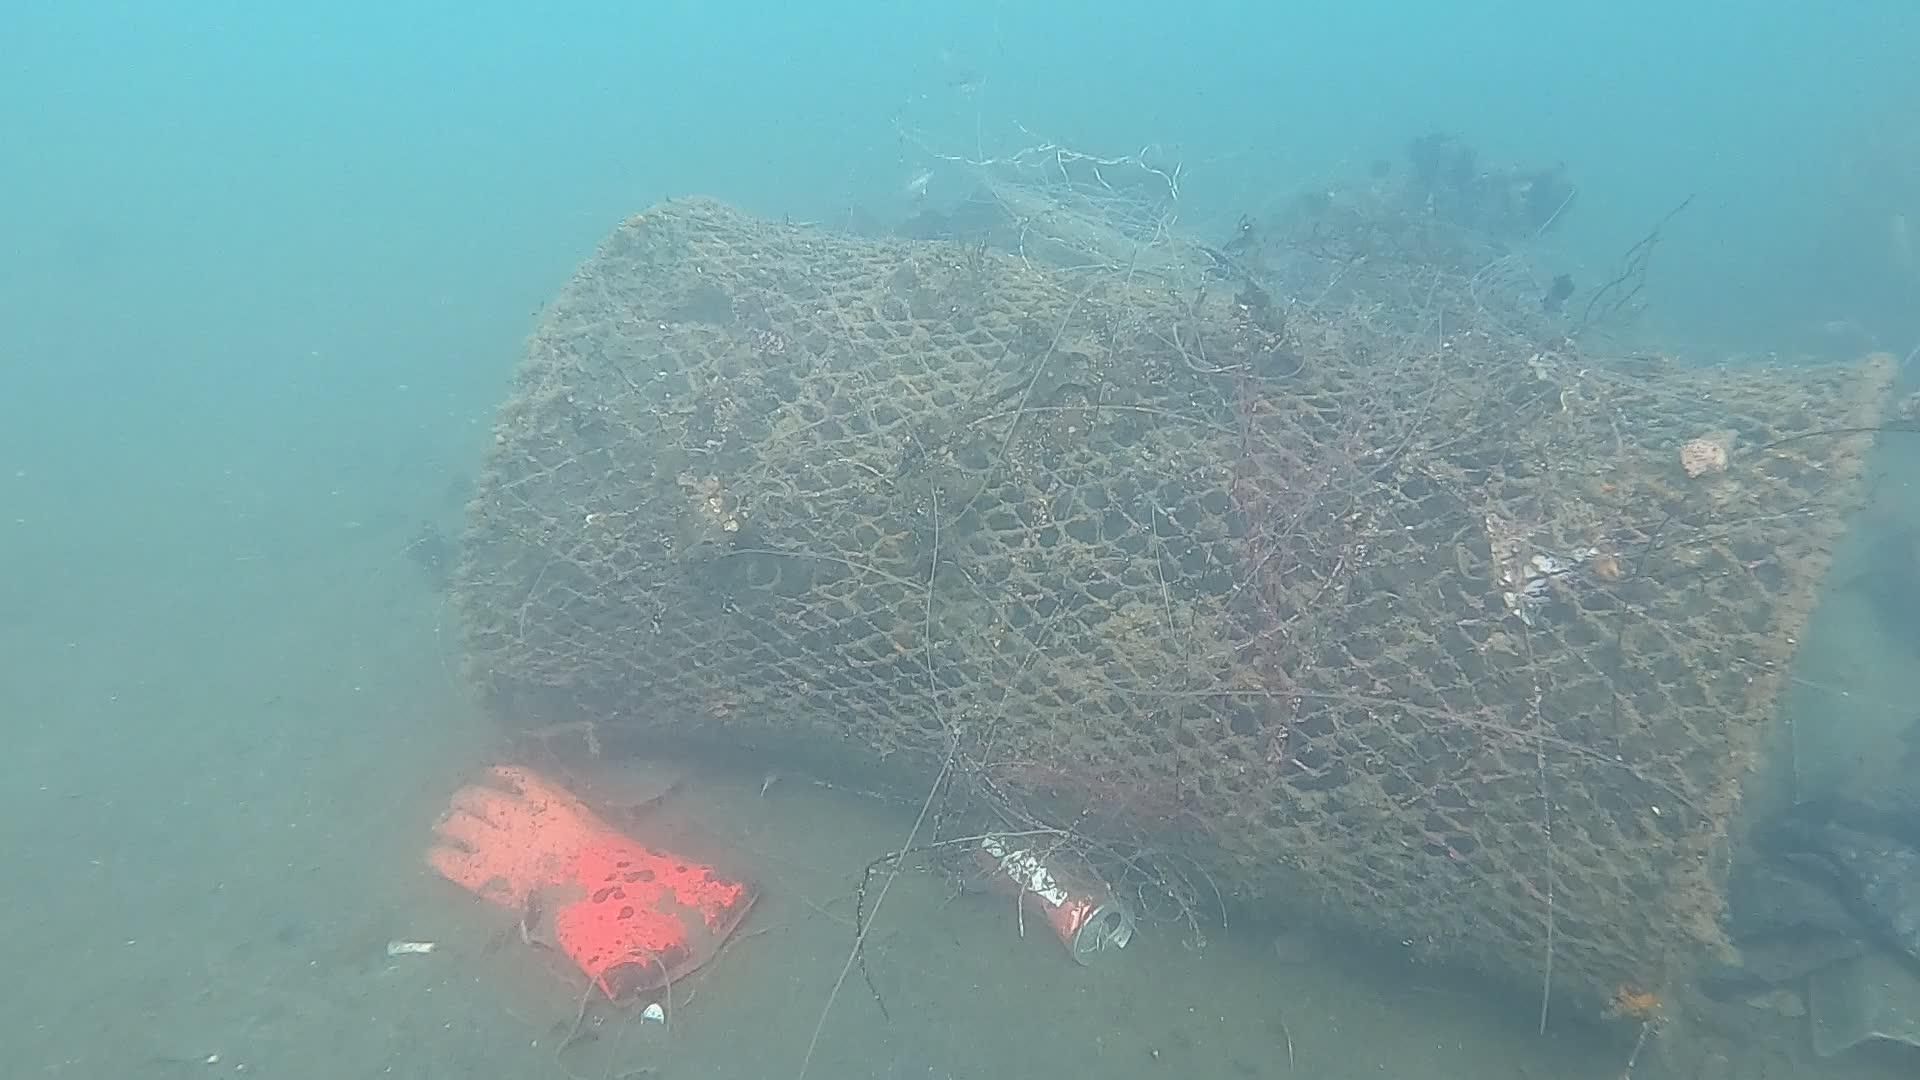spring fish trap: (447, 189, 1903, 1033)
